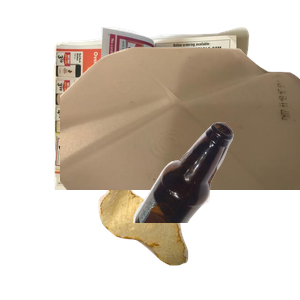glass: (130, 120, 300, 300)
paper: (51, 24, 291, 204)
plastic: (60, 44, 300, 224)
trash: (96, 181, 277, 300)
